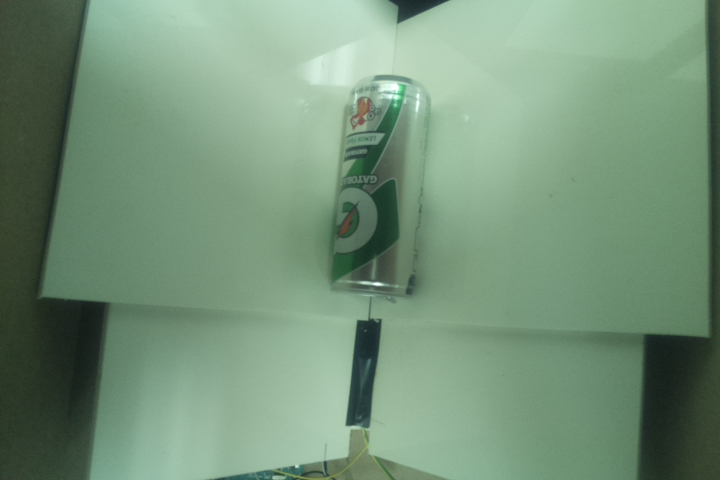can: (325, 69, 433, 303)
